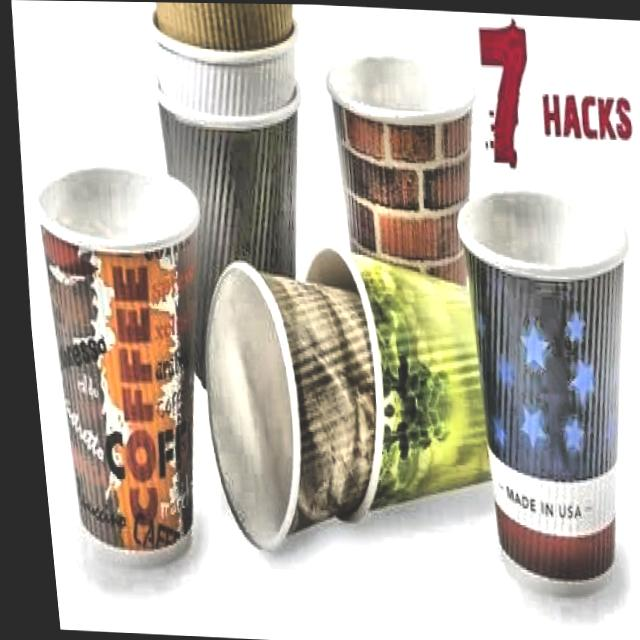Cup: (272, 214, 547, 566), (431, 178, 640, 597), (13, 155, 209, 573), (174, 246, 405, 588), (309, 33, 495, 401)
